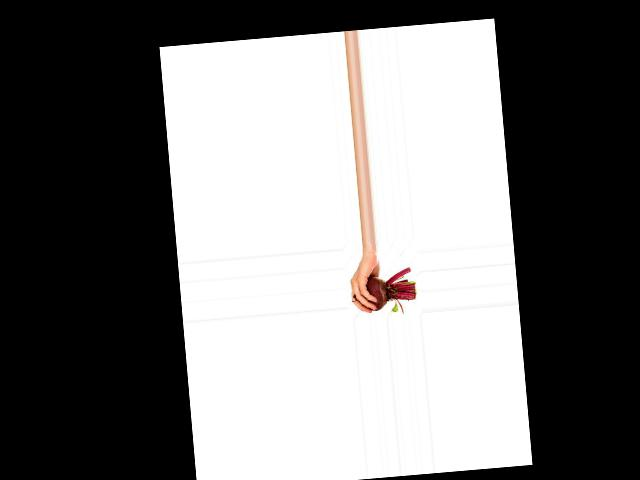beet: (350, 267, 417, 317)
